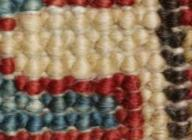Knot: (98, 94, 115, 105), (76, 94, 90, 105), (14, 97, 27, 108), (86, 81, 97, 93), (102, 115, 115, 125), (51, 115, 64, 125), (91, 129, 103, 139), (16, 129, 28, 139), (90, 115, 102, 125), (78, 112, 90, 122), (105, 130, 118, 139), (67, 129, 78, 139), (175, 90, 186, 100), (14, 80, 25, 90), (117, 128, 129, 137), (51, 132, 66, 139), (64, 115, 76, 123), (27, 132, 40, 139), (90, 94, 99, 104), (78, 132, 90, 139), (42, 114, 51, 123), (90, 105, 99, 114), (177, 108, 186, 116), (18, 118, 27, 126), (66, 97, 75, 105), (42, 132, 51, 139), (183, 70, 190, 79), (187, 108, 190, 115)
